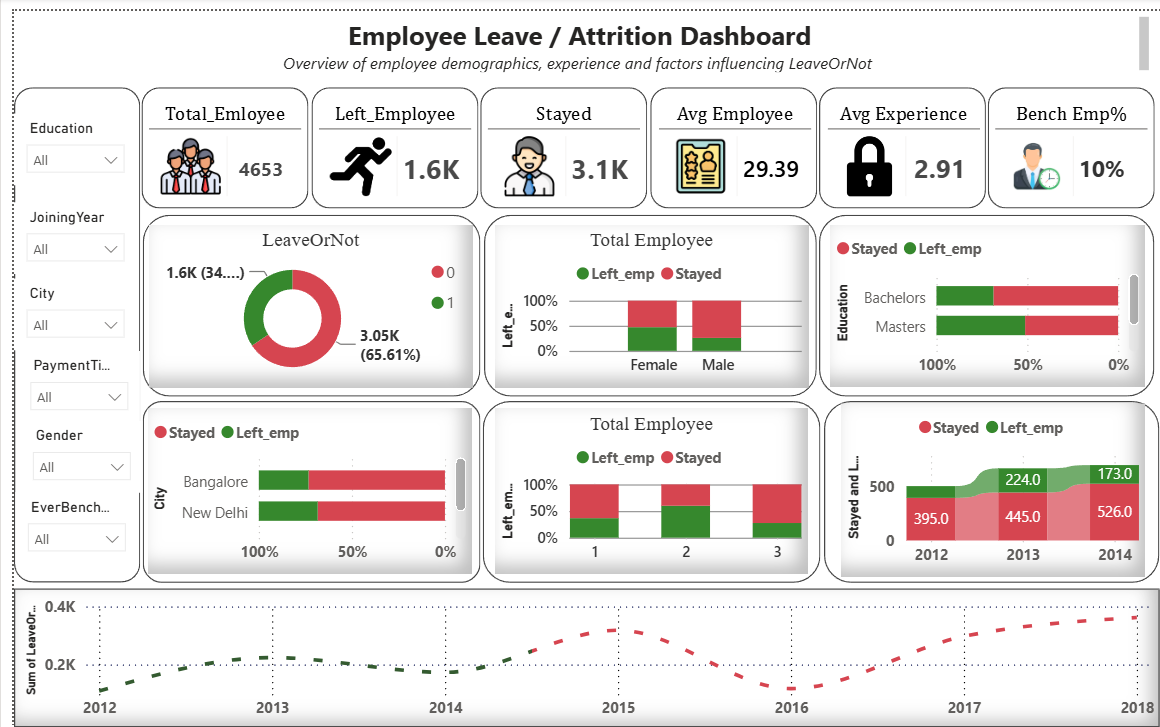

The page's visual inventory and layout, read from the dashboard file:
{"tool":"powerbi","page":{"name":"Page 1","canvas":[1280,720],"ordinal":0},"visuals":[{"type":"textbox","box":[0,0,940.8,55.1],"z":0},{"type":"shape","box":[0,63.2,104.2,408.4],"z":1000},{"type":"shape","box":[105.1,63.3,137.8,100],"z":2000},{"type":"shape","box":[664.3,63.3,137.8,100],"z":3000},{"type":"shape","box":[244.9,63.3,137.8,100],"z":4000},{"type":"shape","box":[384.7,63.3,137.8,100],"z":5000},{"type":"shape","box":[524.5,63.3,137.8,100],"z":6000},{"type":"shape","box":[803.1,63.3,137.8,100],"z":7000},{"type":"shape","box":[106.1,168.4,278.6,150],"z":8000},{"type":"shape","box":[664.3,168.4,276.5,150],"z":9000},{"type":"shape","box":[387.8,168.4,274.5,150],"z":10000},{"type":"shape","box":[106.1,321.4,278.6,150],"z":11000},{"type":"shape","box":[386.7,321.4,278.6,150],"z":12000},{"type":"shape","box":[668.4,321.4,276.5,150],"z":13000},{"type":"shape","box":[0,476.5,944.9,115.3],"z":14000},{"type":"cardVisual","title":"Total_Emloyee","fields":{"Data":["Employee.Total_emp"]},"box":[111.2,68.4,125.5,89.8],"z":15000},{"type":"cardVisual","title":"Left_Employee","fields":{"Data":["Employee.Left_emp"]},"box":[252,68.4,125.5,89.8],"z":16000},{"type":"cardVisual","title":"Stayed","fields":{"Data":["Employee.Stayed"]},"box":[390.8,68.4,125.5,89.8],"z":17000},{"type":"cardVisual","title":"Avg Employee","fields":{"Data":["Employee.Avg_age"]},"box":[531.6,68.4,125.5,89.8],"z":18000},{"type":"cardVisual","title":"Avg Experience","fields":{"Data":["Employee.Avg_Exp"]},"box":[671.4,68.4,125.5,89.8],"z":19000},{"type":"cardVisual","title":"Bench Emp%","fields":{"Data":["Employee.banch_emp %"]},"box":[809.2,68.4,125.5,89.8],"z":20000},{"type":"hundredPercentStackedColumnChart","title":"Total Employee","fields":{"Category":["Employee.Gender"],"Y":["Employee.Left_emp","Employee.Stayed"]},"box":[397,176,258,134],"z":21000},{"type":"donutChart","title":" LeaveOrNot","fields":{"Category":["Employee.LeaveOrNot"],"Y":["CountNonNull(Employee.LeaveOrNot)"]},"box":[111,176,267,134],"z":22000},{"type":"hundredPercentStackedBarChart","fields":{"Category":["Employee.Education"],"Y":["Employee.Stayed","Employee.Left_emp"]},"box":[673.1,176,259.6,133.7],"z":23000},{"type":"hundredPercentStackedBarChart","fields":{"Y":["Employee.Stayed","Employee.Left_emp"],"Category":["Employee.City"]},"box":[110.6,327.9,267.3,136.5],"z":24000},{"type":"hundredPercentStackedColumnChart","title":"Total Employee","fields":{"Y":["Employee.Left_emp","Employee.Stayed"],"Category":["Employee.PaymentTier"]},"box":[397.1,327.9,257.7,136.5],"z":25000},{"type":"slicer","fields":{"Values":["Employee.Education"]},"box":[0,84.2,101.1,58.9],"z":26000},{"type":"slicer","fields":{"Values":["Employee.PaymentTier"]},"box":[3.2,280,101.1,58.9],"z":27000},{"type":"slicer","fields":{"Values":["Employee.EverBenched"]},"box":[1.1,396.8,101.1,58.9],"z":28000},{"type":"slicer","fields":{"Values":["Employee.Gender"]},"box":[5.3,337.9,101.1,58.9],"z":29000},{"type":"slicer","fields":{"Values":["Employee.JoiningYear"]},"box":[0,157.9,101.1,58.9],"z":30000},{"type":"slicer","fields":{"Values":["Employee.City"]},"box":[0,221.1,101.1,58.9],"z":31000},{"type":"lineChart","fields":{"Y":["Sum(Employee.LeaveOrNot)"],"Category":["Employee.JoiningYear"]},"box":[1.1,476.8,944.2,115.8],"z":32000},{"type":"columnChart","fields":{"Category":["Employee.JoiningYear"],"Y":["Employee.Stayed","Employee.Left_emp"]},"box":[682.1,324.2,250.5,143.2],"z":32001}]}

Visuals, with their boxes on the page's 1280x720 design canvas (x1, y1, x2, y2). These are canvas units, not pixel positions in the 1160x727 screenshot, which may show the page scaled, cropped or inside an application window:
textbox: (0, 0, 941, 55)
shape: (0, 63, 104, 472)
shape: (105, 63, 243, 163)
shape: (664, 63, 802, 163)
shape: (245, 63, 383, 163)
shape: (385, 63, 522, 163)
shape: (524, 63, 662, 163)
shape: (803, 63, 941, 163)
shape: (106, 168, 385, 318)
shape: (664, 168, 941, 318)
shape: (388, 168, 662, 318)
shape: (106, 321, 385, 471)
shape: (387, 321, 665, 471)
shape: (668, 321, 945, 471)
shape: (0, 476, 945, 592)
"Total_Emloyee" cardVisual: (111, 68, 237, 158)
"Left_Employee" cardVisual: (252, 68, 378, 158)
"Stayed" cardVisual: (391, 68, 516, 158)
"Avg Employee" cardVisual: (532, 68, 657, 158)
"Avg Experience" cardVisual: (671, 68, 797, 158)
"Bench Emp%" cardVisual: (809, 68, 935, 158)
"Total Employee" hundredPercentStackedColumnChart: (397, 176, 655, 310)
" LeaveOrNot" donutChart: (111, 176, 378, 310)
hundredPercentStackedBarChart - Employee.Education x Employee.Stayed: (673, 176, 933, 310)
hundredPercentStackedBarChart - Employee.Stayed x Employee.Left_emp: (111, 328, 378, 464)
"Total Employee" hundredPercentStackedColumnChart: (397, 328, 655, 464)
slicer - Employee.Education: (0, 84, 101, 143)
slicer - Employee.PaymentTier: (3, 280, 104, 339)
slicer - Employee.EverBenched: (1, 397, 102, 456)
slicer - Employee.Gender: (5, 338, 106, 397)
slicer - Employee.JoiningYear: (0, 158, 101, 217)
slicer - Employee.City: (0, 221, 101, 280)
lineChart - Sum(Employee.LeaveOrNot) x Employee.JoiningYear: (1, 477, 945, 593)
columnChart - Employee.JoiningYear x Employee.Stayed: (682, 324, 933, 467)
